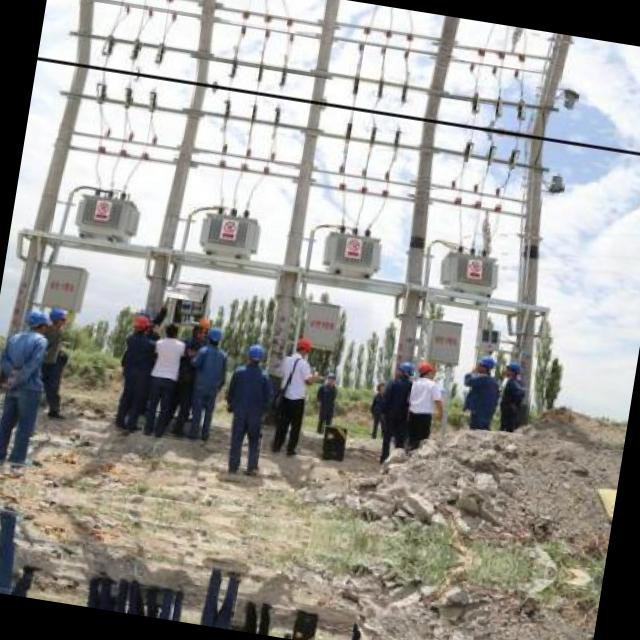helmet: (21, 307, 54, 337), (473, 348, 500, 377), (240, 338, 266, 368), (46, 302, 72, 328), (501, 355, 526, 381), (394, 358, 420, 382), (416, 357, 440, 380), (291, 332, 313, 356), (130, 309, 152, 333), (204, 323, 226, 346)
